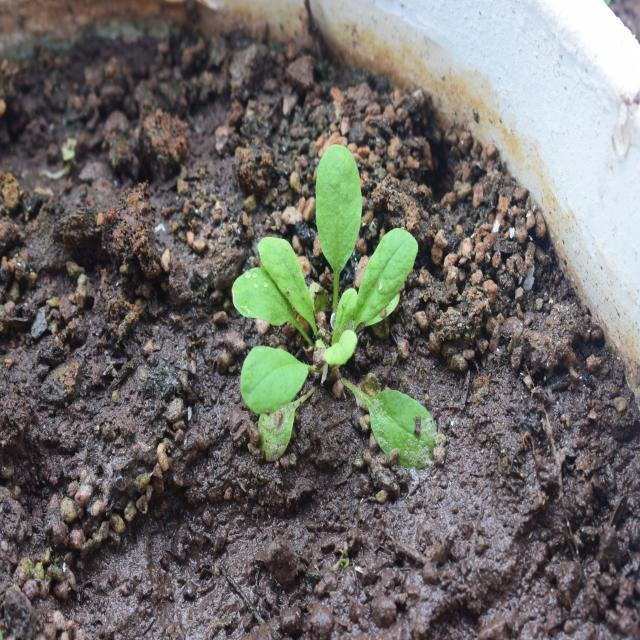Shepherd_Purse: (215, 139, 439, 454)
